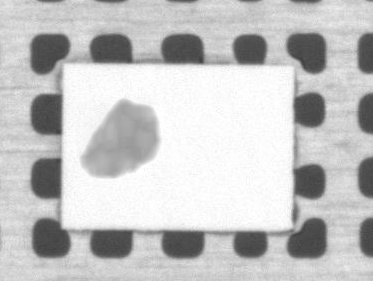DIE_INK: (77, 100, 160, 182)
